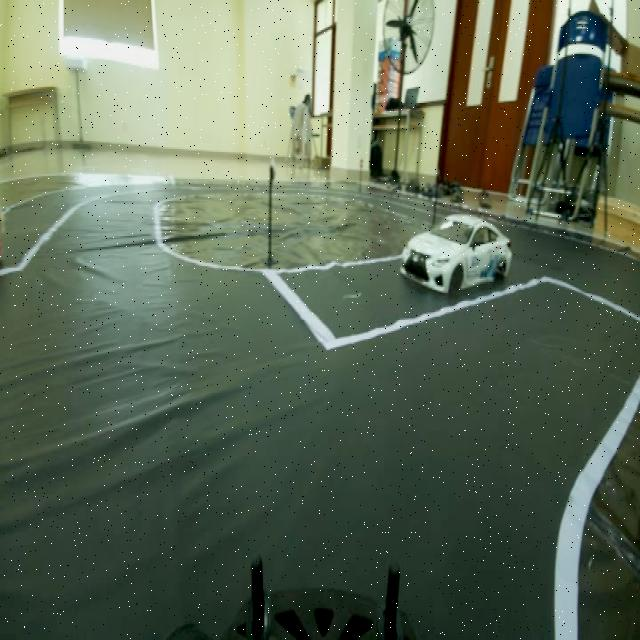car: (407, 216, 513, 305)
